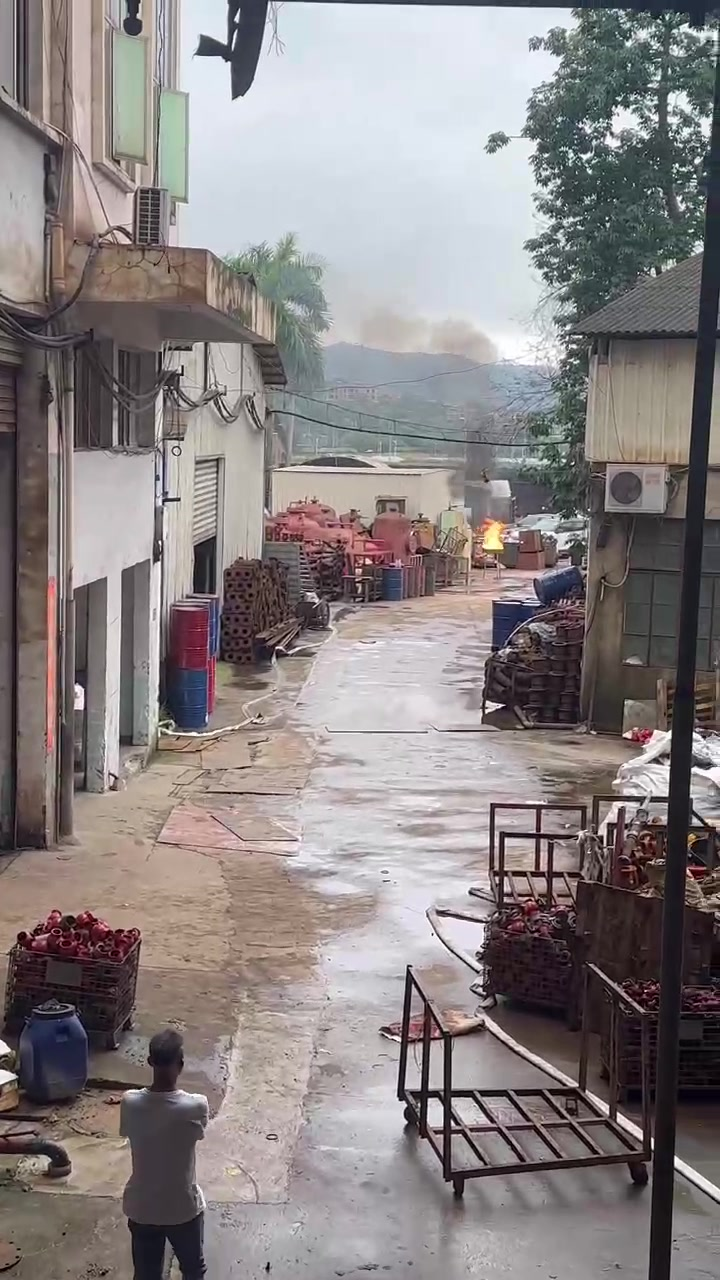fire: (481, 515, 502, 547)
